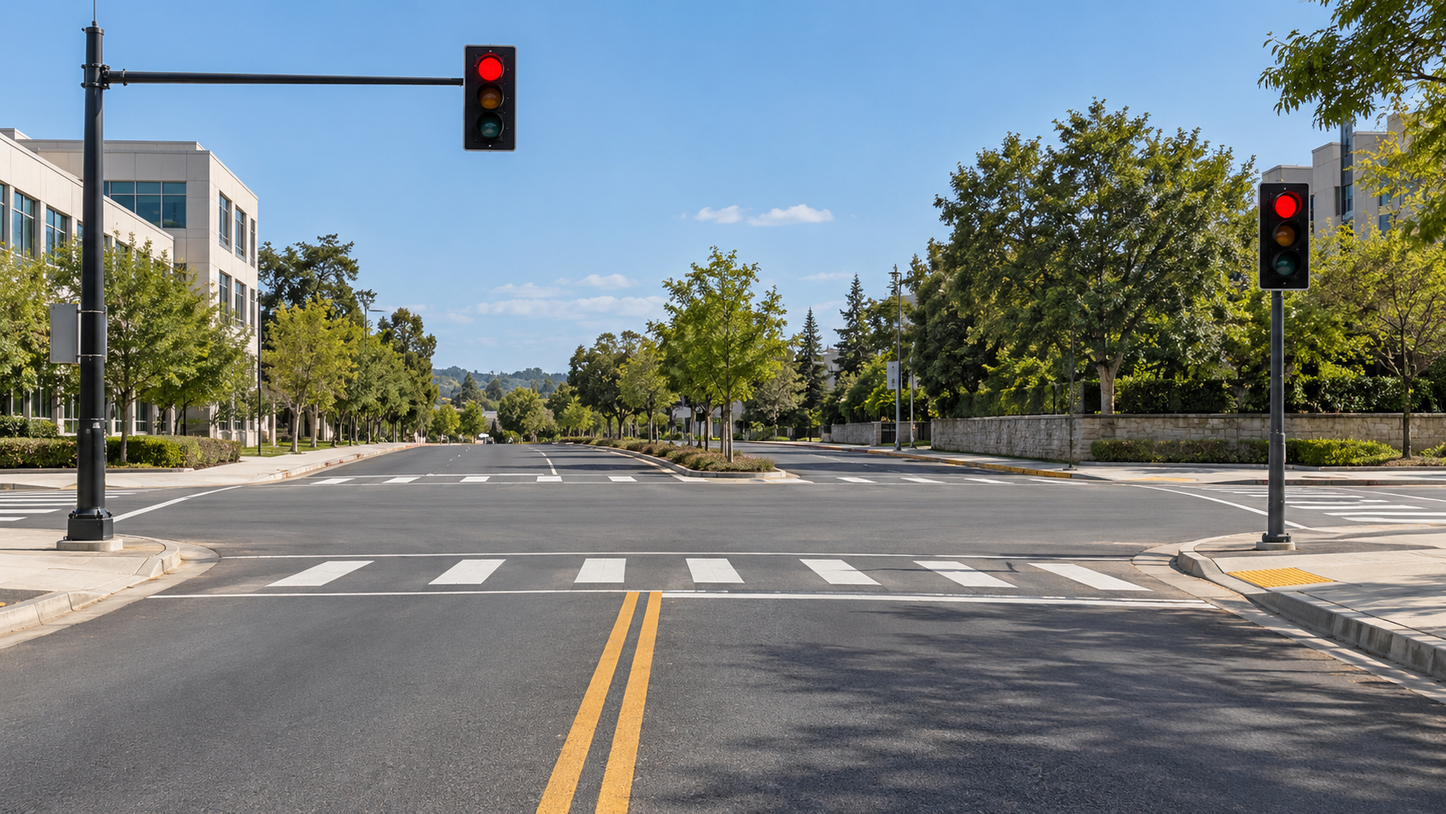car: (588, 371, 779, 530)
traffic_light: (1260, 80, 1312, 209), (464, 45, 515, 152)
zebra_crossing: (279, 560, 1012, 602), (0, 478, 536, 510)
